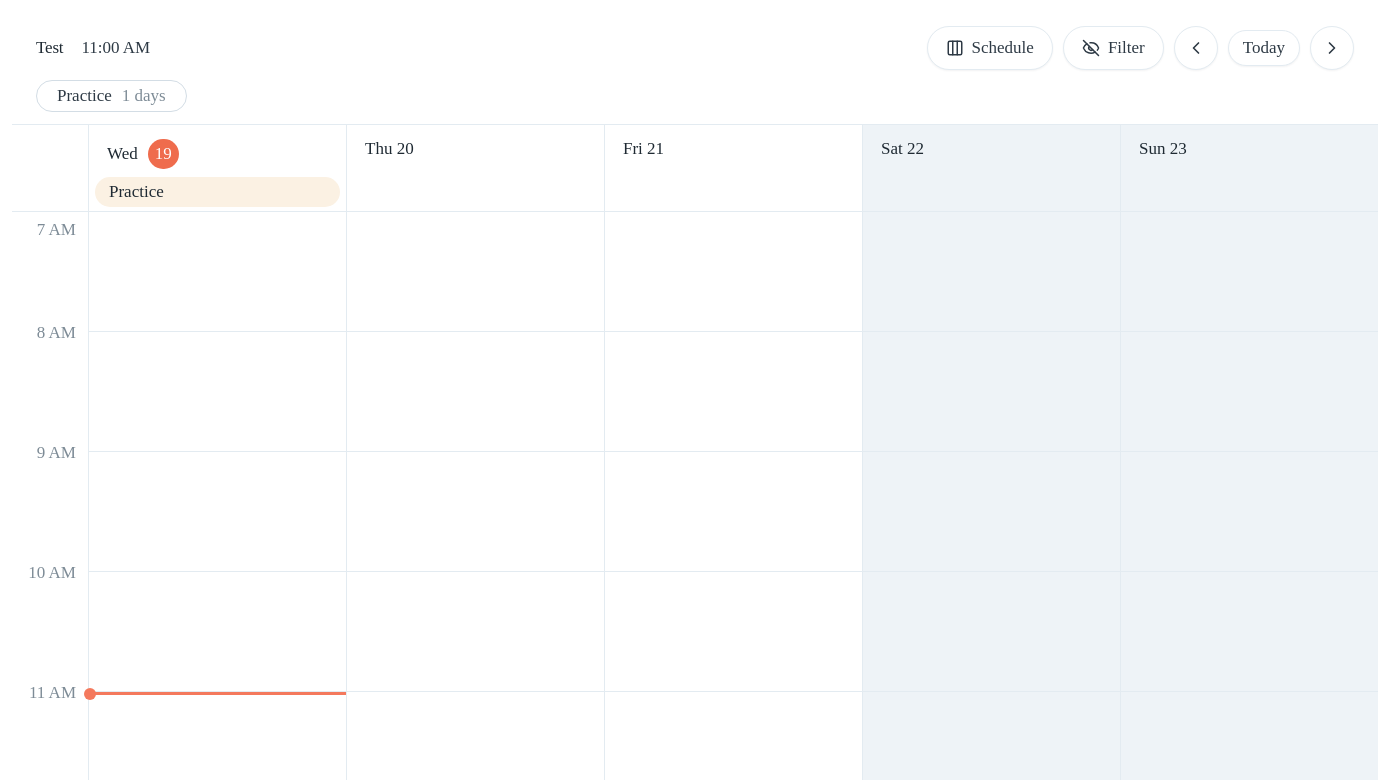
Test: CalendarScreen stale writes › a stale save reloads the current event instead of keeping the write
Click the button "Practice": (218, 192) [95,177,340,207]
(page scrolled)
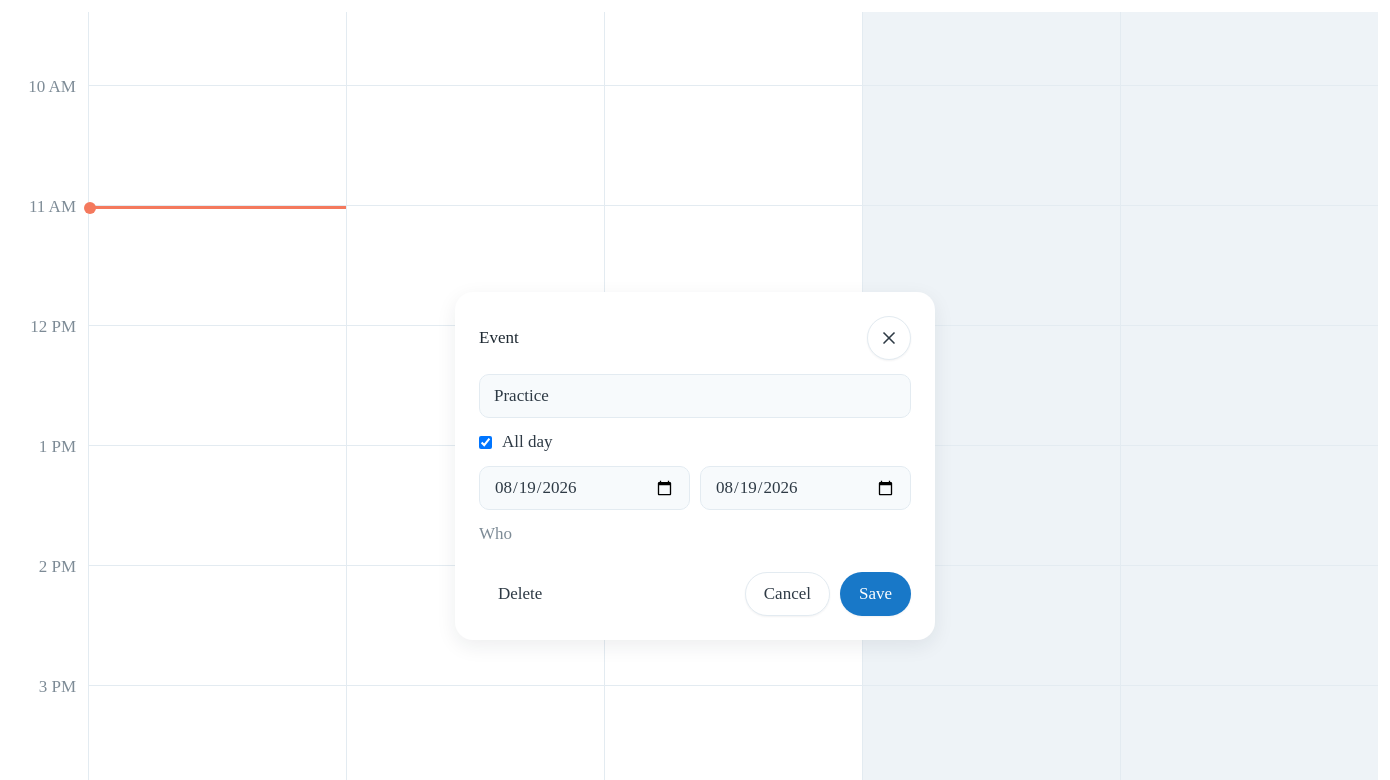
Replace the text in the field with placeholder "Title" with "Stolen": (695, 396) [479,374,911,418]
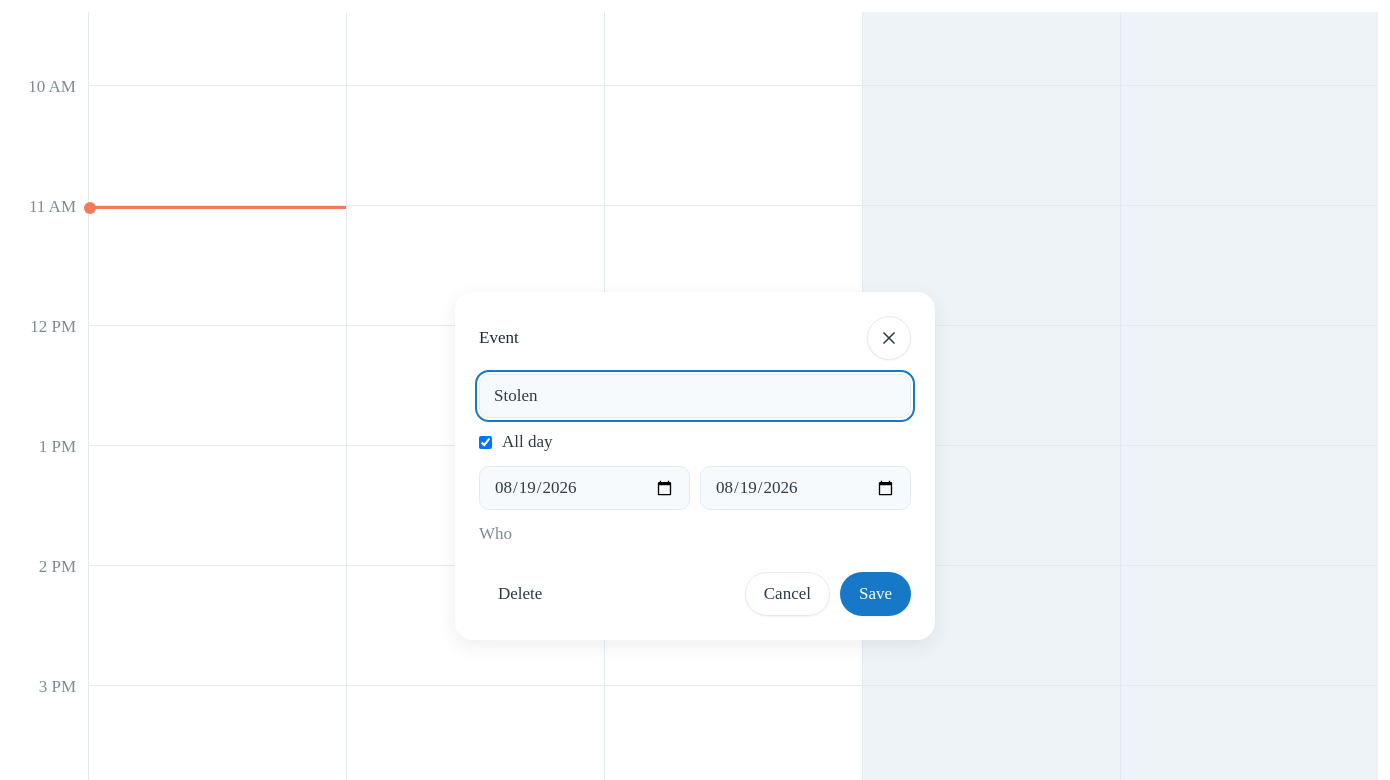
Click the button "Save": (876, 594) [840,572,911,616]
(page scrolled)
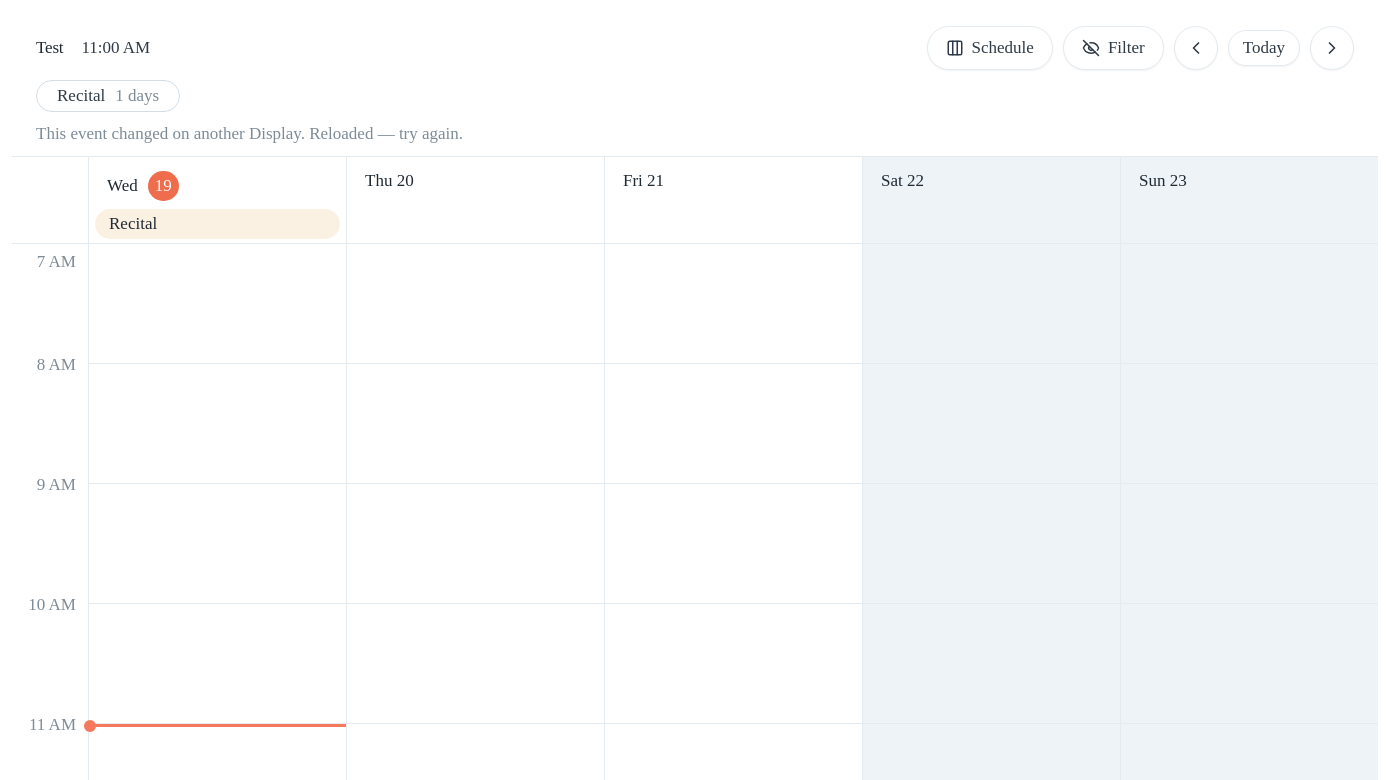
expect the button "Stolen" is not shown: met
expect the button "Recital" is shown: met, box [95,209,340,239]
expect the text "This event changed on another Display. Reloaded — try again." is shown: met, box [36,124,463,143]
